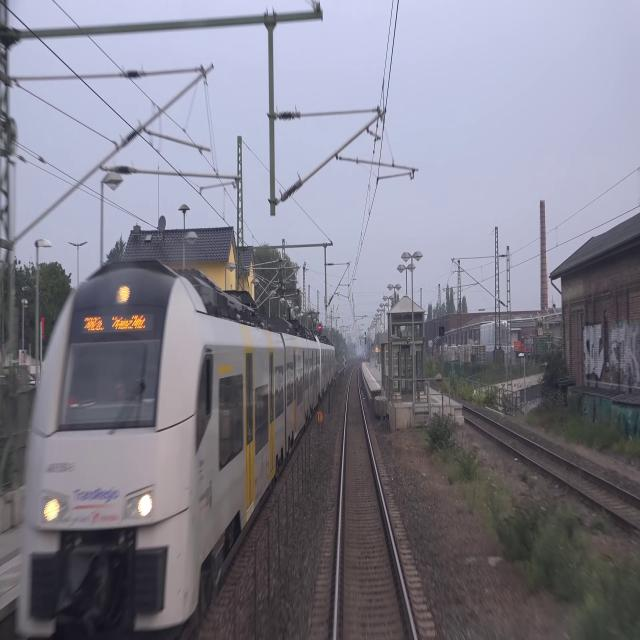rail-track: (457, 406, 640, 521), (337, 368, 413, 639)
